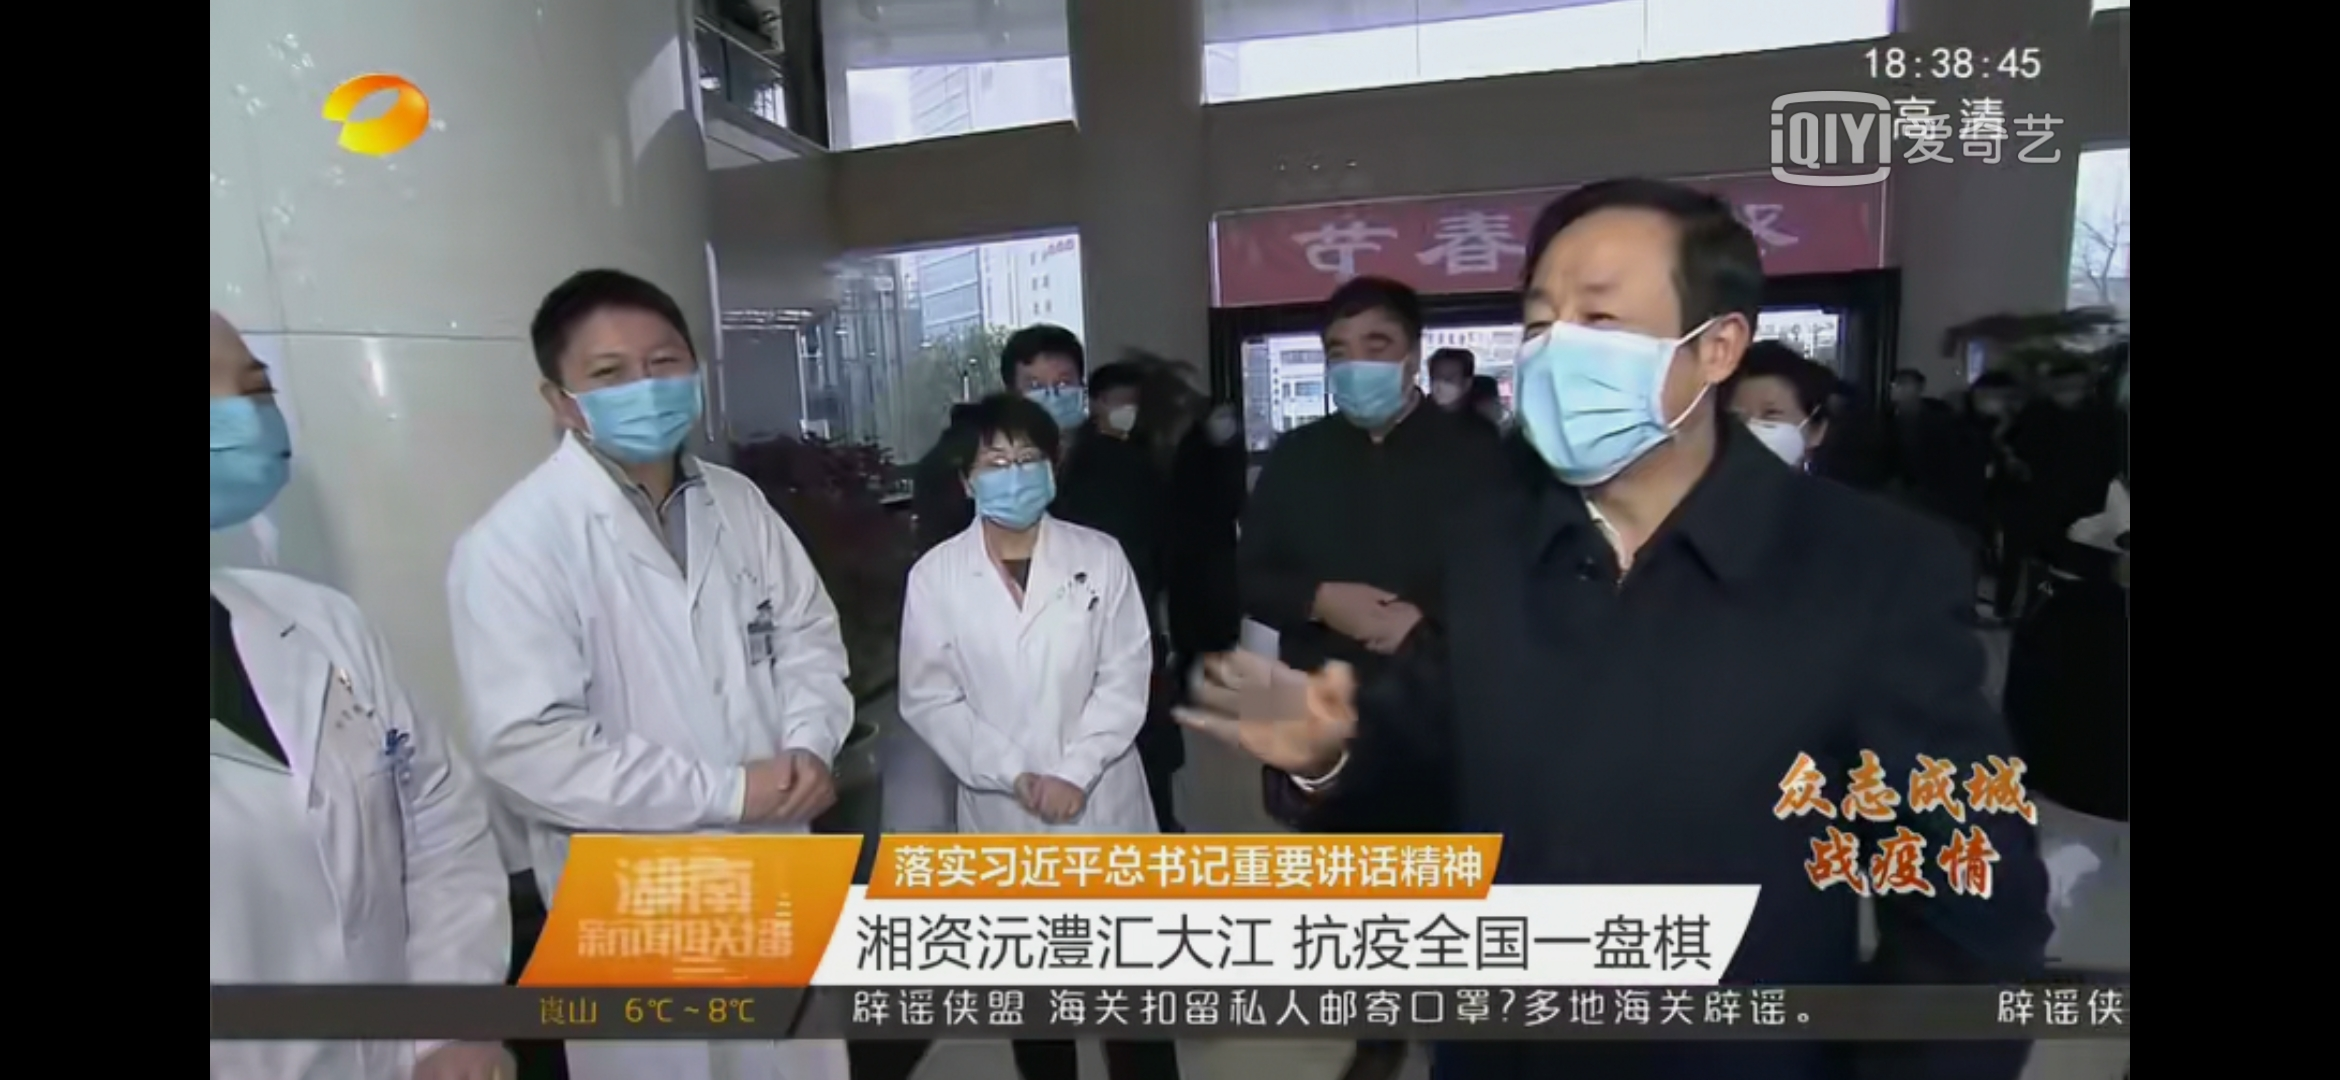correctlyWear: (1504, 269, 1752, 495), (540, 304, 715, 477), (207, 307, 300, 555), (1321, 318, 1421, 436), (964, 428, 1058, 536), (1746, 379, 1833, 474), (1022, 349, 1091, 448), (1430, 357, 1474, 406), (1098, 389, 1139, 443), (1209, 406, 1236, 443)
